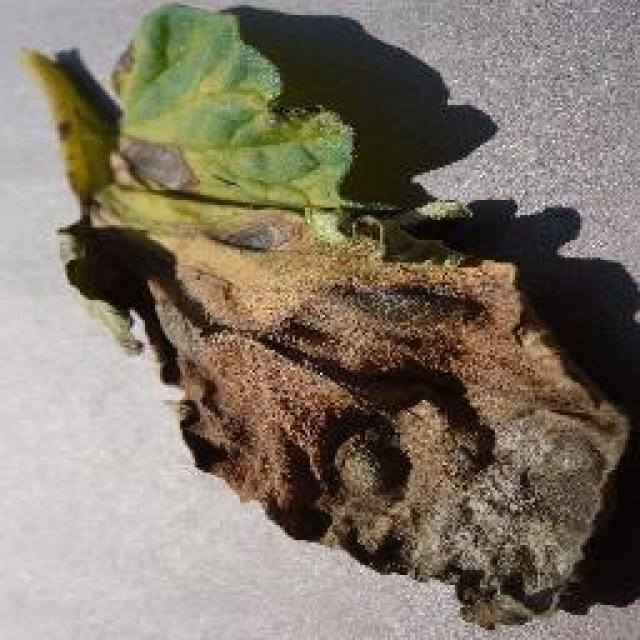Tomato___Early_blight: (17, 4, 635, 630)
